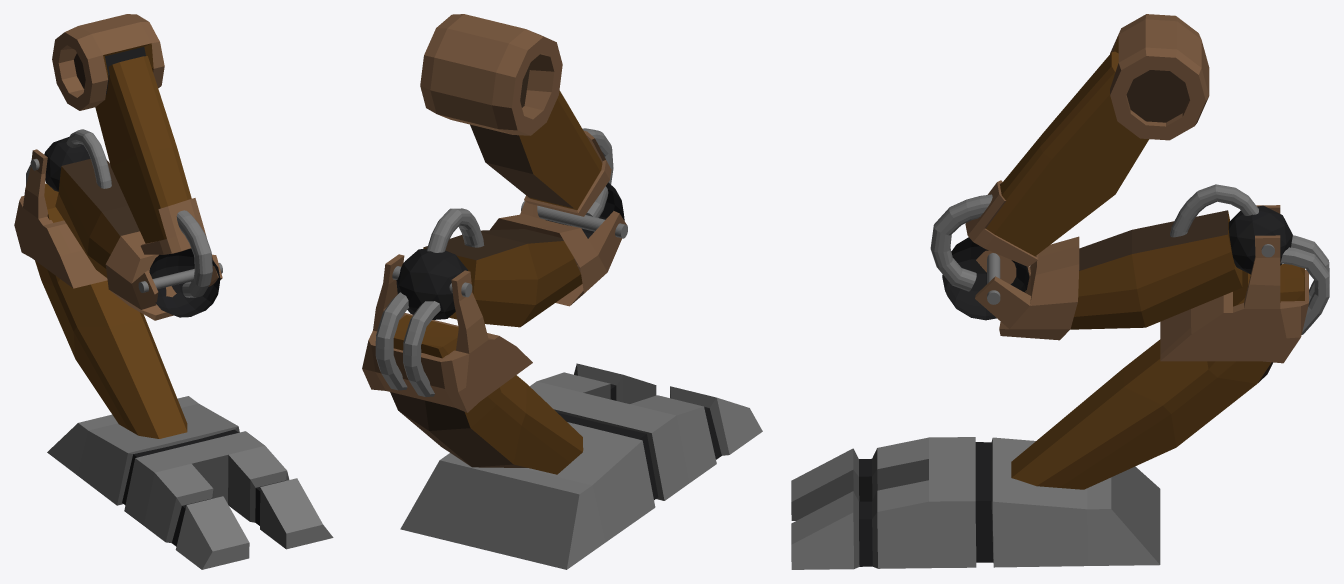
The model's file is leg.fbx.
3 renders of one model, left to right at view 1: azimuth 30°, elevation 25°; view 2: azimuth 150°, elevation 25°; view 3: azimuth 270°, elevation 25°, orthographic. The views are drawn at different scales.
Parts seen in each view (by area): view 1: leg; view 2: leg; view 3: leg.
Boxes of the visible parts, x1,y1,x2,y2 form: leg: [14, 14, 333, 569]; leg: [362, 14, 762, 569]; leg: [791, 14, 1329, 569].
Size of the model in its own units: 147 by 446 by 439.
